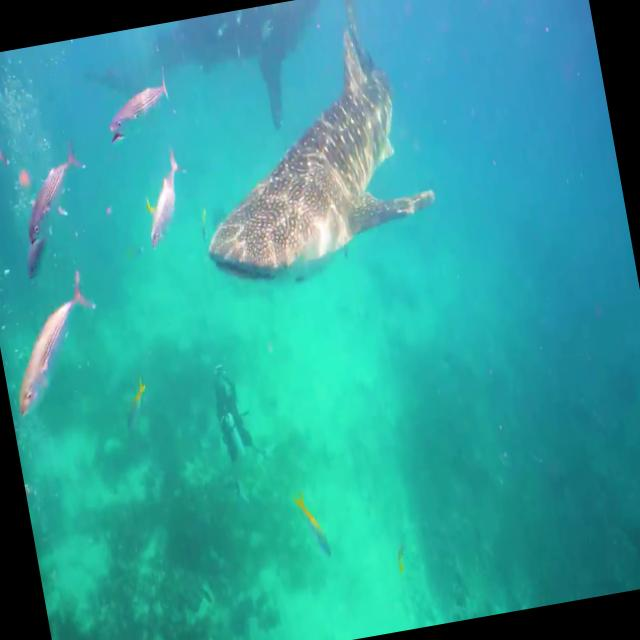fish: (159, 0, 449, 297), (0, 261, 117, 425), (8, 139, 92, 240), (93, 59, 179, 148), (127, 152, 194, 258), (278, 480, 340, 553), (13, 221, 58, 287), (0, 123, 15, 200)
